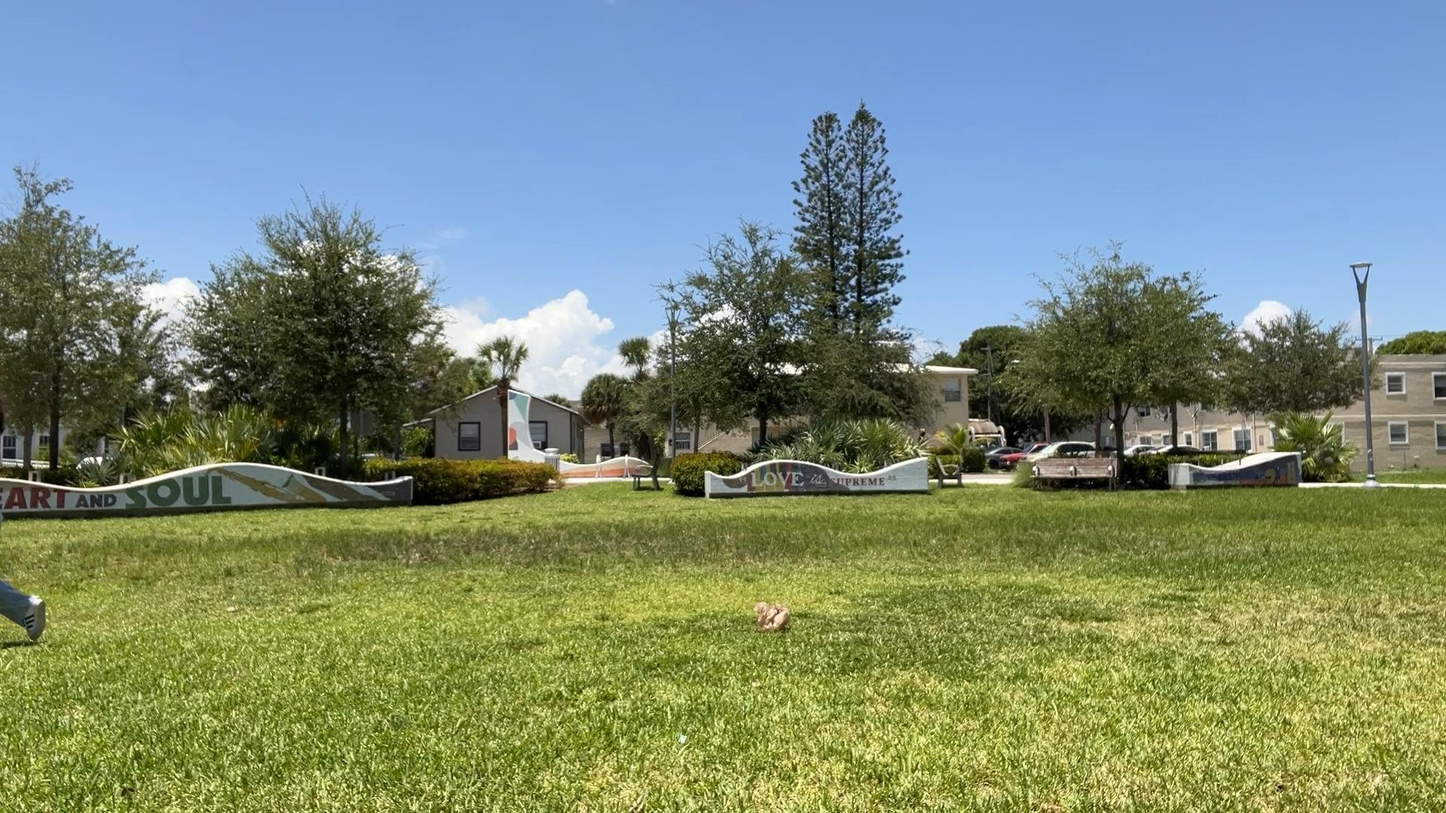Trash: (740, 592, 808, 637)
